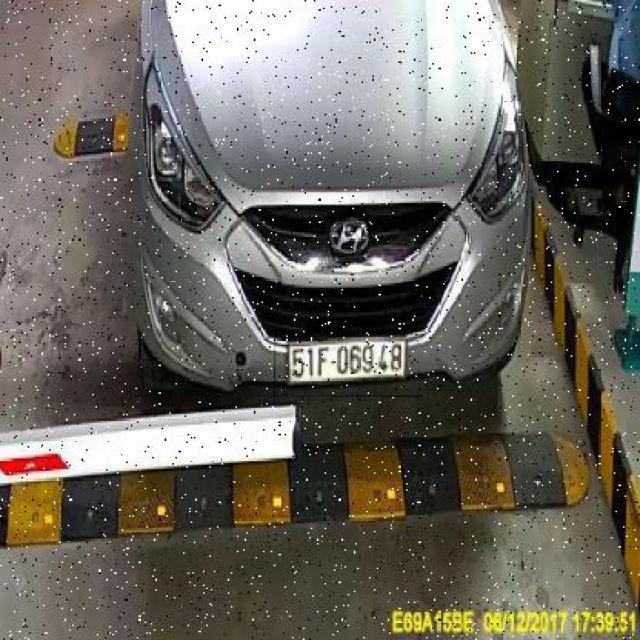number_plate: (274, 332, 421, 397)
